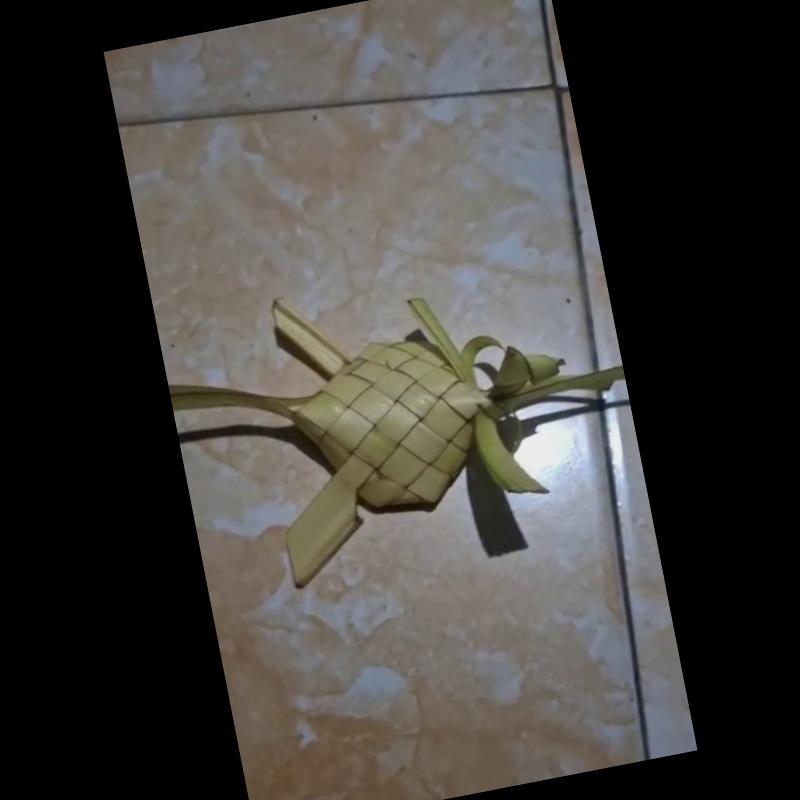Tipat Dampulan: (169, 287, 626, 587)
